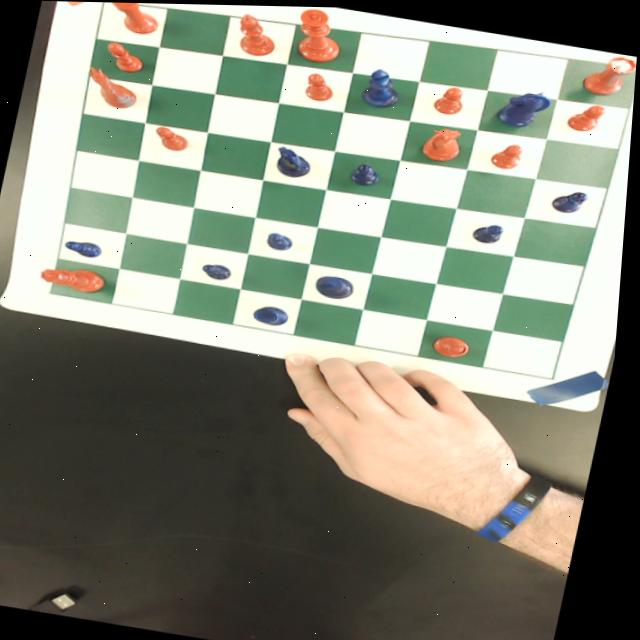B: (360, 64, 406, 108)
K: (316, 271, 362, 299)
N: (494, 82, 556, 130), (275, 144, 317, 178)
P: (552, 183, 594, 213), (350, 159, 387, 185), (66, 237, 108, 258), (474, 219, 510, 243), (203, 260, 238, 280), (268, 229, 299, 250)
R: (254, 301, 298, 325)
b: (232, 11, 284, 57), (436, 330, 476, 356)
k: (291, 5, 349, 63)
n: (82, 65, 145, 110), (420, 121, 472, 162)
p: (103, 40, 149, 74), (565, 97, 609, 131), (432, 80, 470, 113), (151, 123, 193, 152), (489, 137, 528, 168), (303, 70, 338, 100)
q: (41, 262, 111, 294)
r: (580, 46, 638, 96), (105, 2, 167, 35)
